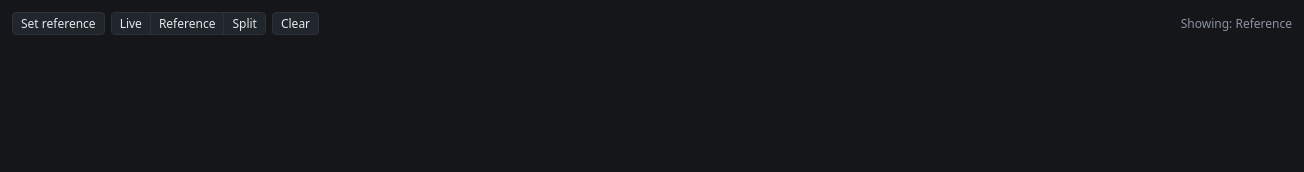
CompareControls › 'Clear' discards the reference and falls back to live
Click the button "Clear": (295, 24) [272, 12, 319, 35]
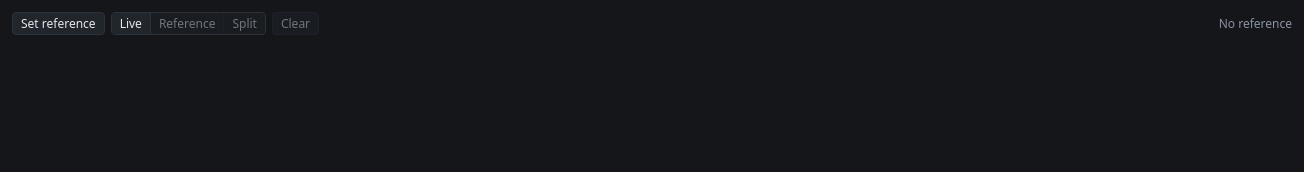
Result: the text "No reference" is shown at [1219, 15, 1292, 32]
